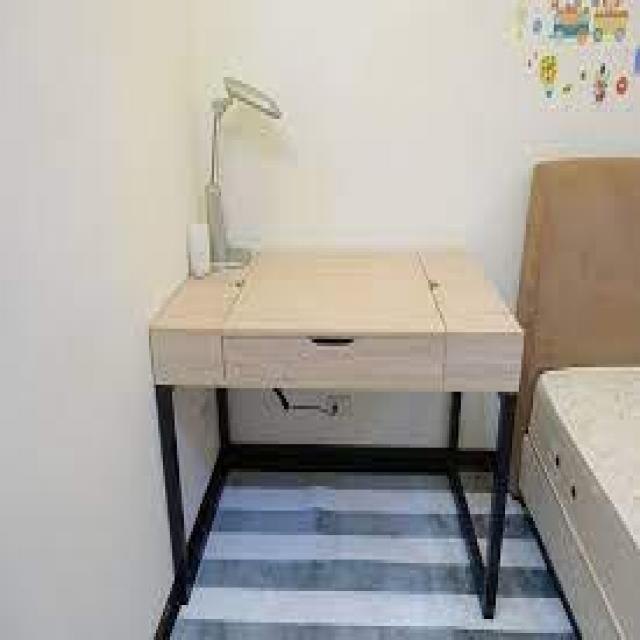mobile-phone: (148, 240, 528, 623)
